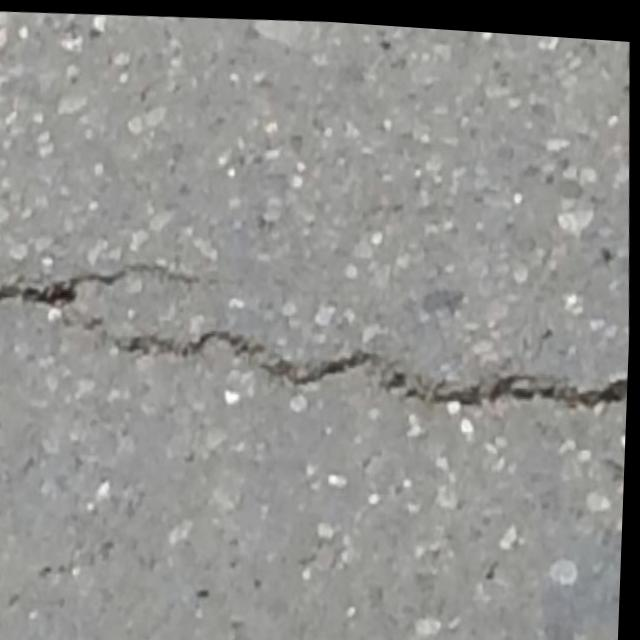Crack: (0, 222, 634, 461)
